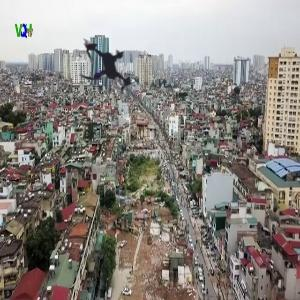drone: (50, 8, 169, 127)
